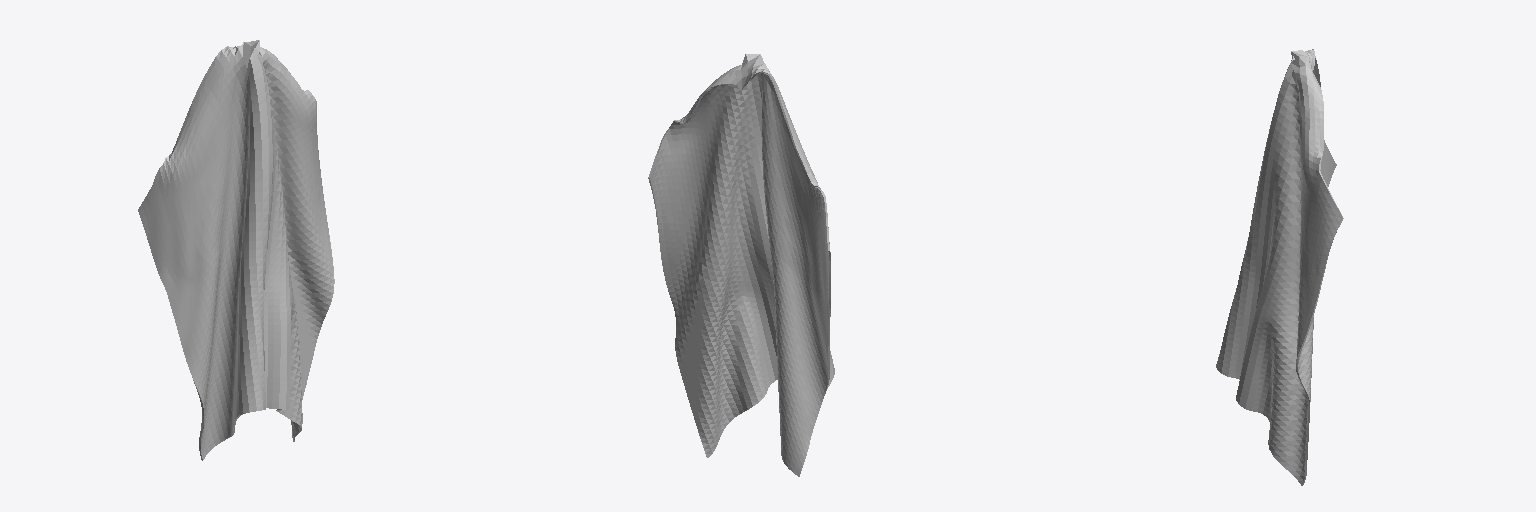
The model's file is HangingTowel.obj.
3 renders of one model, left to right at view 1: azimuth 30°, elevation 25°; view 2: azimuth 150°, elevation 25°; view 3: azimuth 270°, elevation 25°, orthographic.
Visible parts, largest first — view 1: towel; view 2: towel; view 3: towel.
Boxes of the visible parts, box(x1,y1,x2,y2) form: towel: box(138, 40, 334, 460); towel: box(648, 54, 834, 476); towel: box(1216, 49, 1343, 485).
Size of the model in its own units: 5.46 by 11.93 by 3.34.